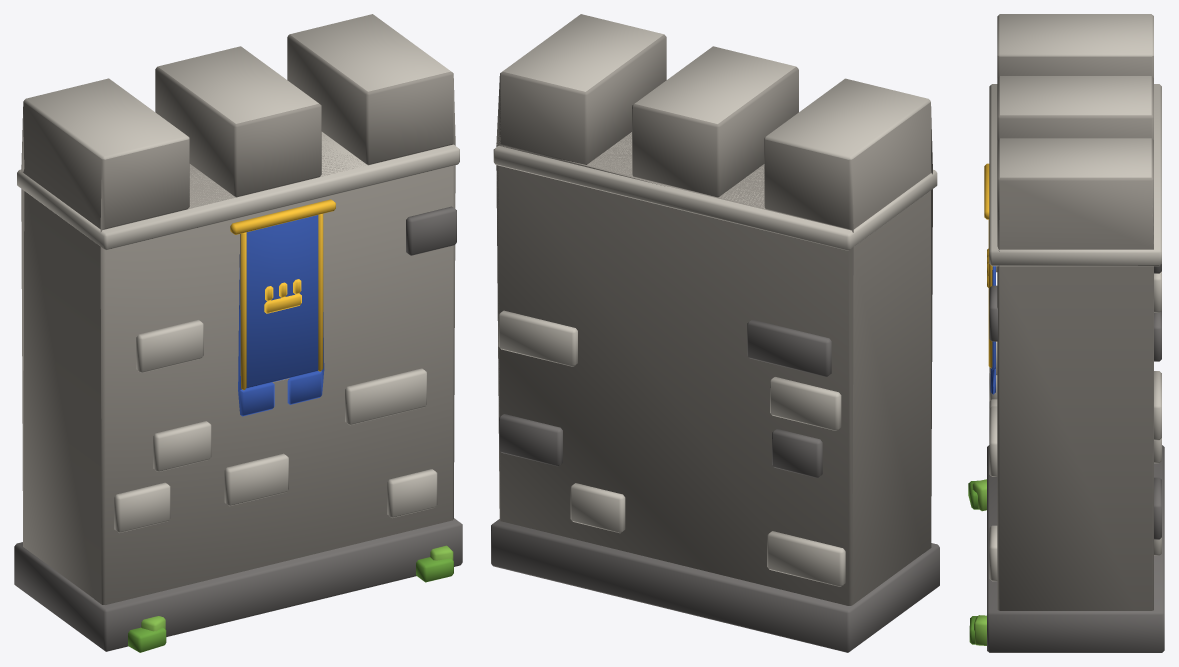
The model's file is B_MedCastleWall.fbx.
The picture shows the model from 3 angles, left to right: view 1: azimuth 30°, elevation 25°; view 2: azimuth 150°, elevation 25°; view 3: azimuth 270°, elevation 25°; orthographic projection. The views are drawn at different scales.
Parts seen in each view (by area): view 1: M_CastleWall; view 2: M_CastleWall; view 3: M_CastleWall.
Boxes of the visible parts, x1,y1,x2,y2 form: M_CastleWall: (14, 14, 462, 652); M_CastleWall: (491, 14, 939, 652); M_CastleWall: (968, 14, 1164, 652).
Bounding box in the file's own units: 3.06 × 4 × 1.5.
Materials: 1 (1 with a texture image).
